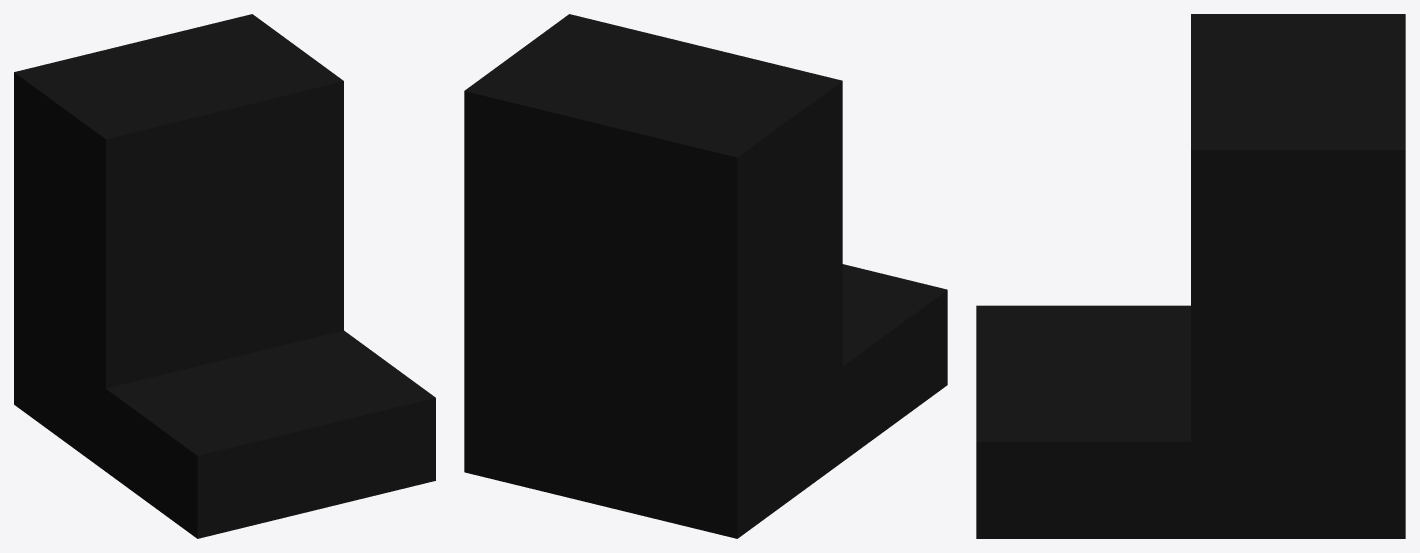
The model's file is Right_Leg_Graves.obj.
3 renders of one model, left to right at view 1: azimuth 30°, elevation 25°; view 2: azimuth 150°, elevation 25°; view 3: azimuth 270°, elevation 25°, orthographic. The views are drawn at different scales.
Size of the model in its own units: 0.6 by 0.8 by 0.8.
Materials: 1 (1 with a texture image).
